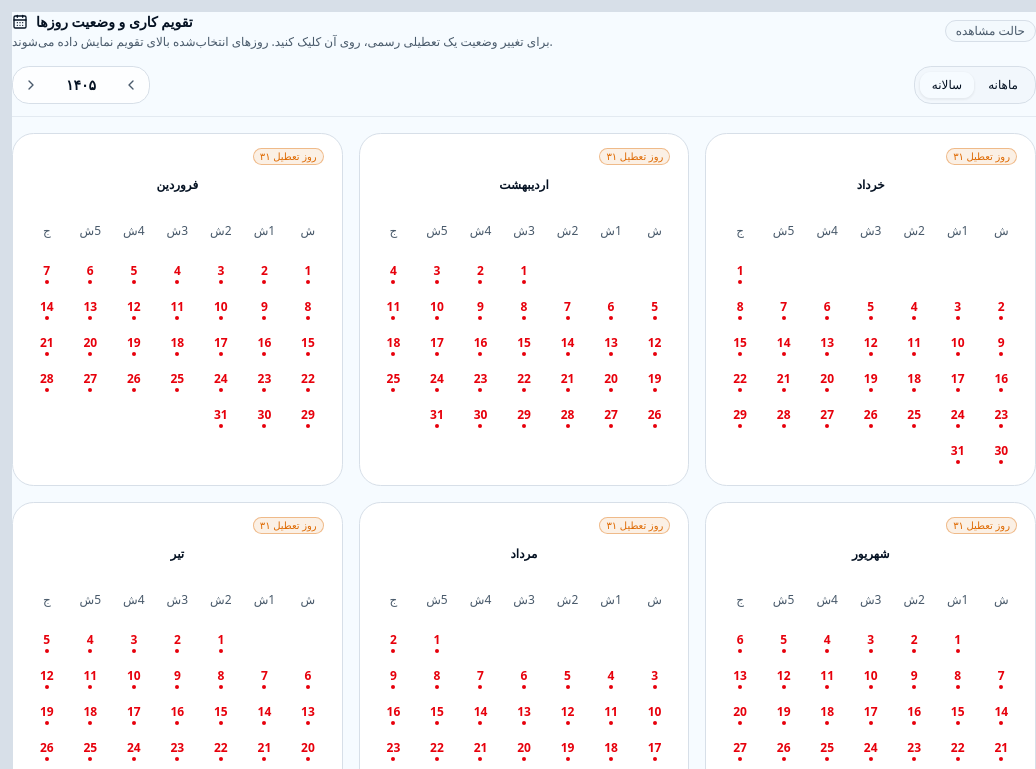
HolidaysCalendar Component › renders the year toolbar and allows year navigation and resetting
Expected: the button "سالانه" is shown, [919, 71, 975, 99]
Expected: the button "ماهانه" is shown, [975, 71, 1031, 99]
Navigate to next year
What coordinates should you click on to do the following:
click the button named "سال بعد"
I would click on:
 (131, 85)
Its box is [117, 71, 145, 99].
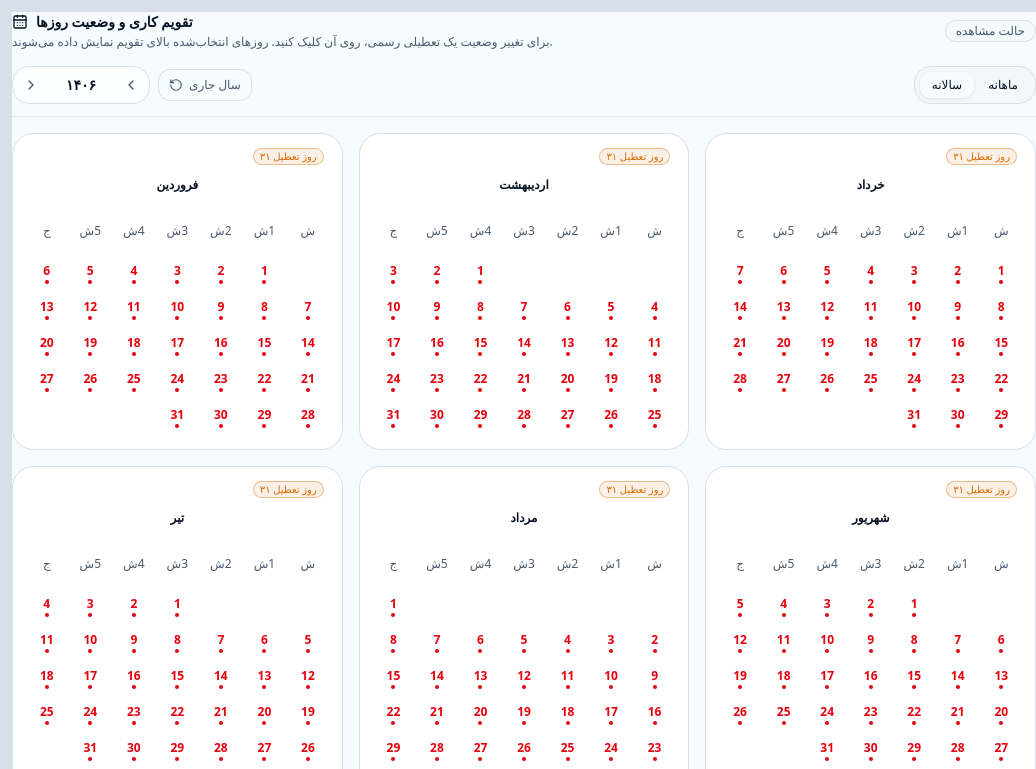
Result: the button "سال جاری" is shown
Reset back to current year
What coordinates should you click on to do the following:
click the button "سال جاری"
I would click on:
 (205, 85)
Its box is [158, 69, 252, 101].
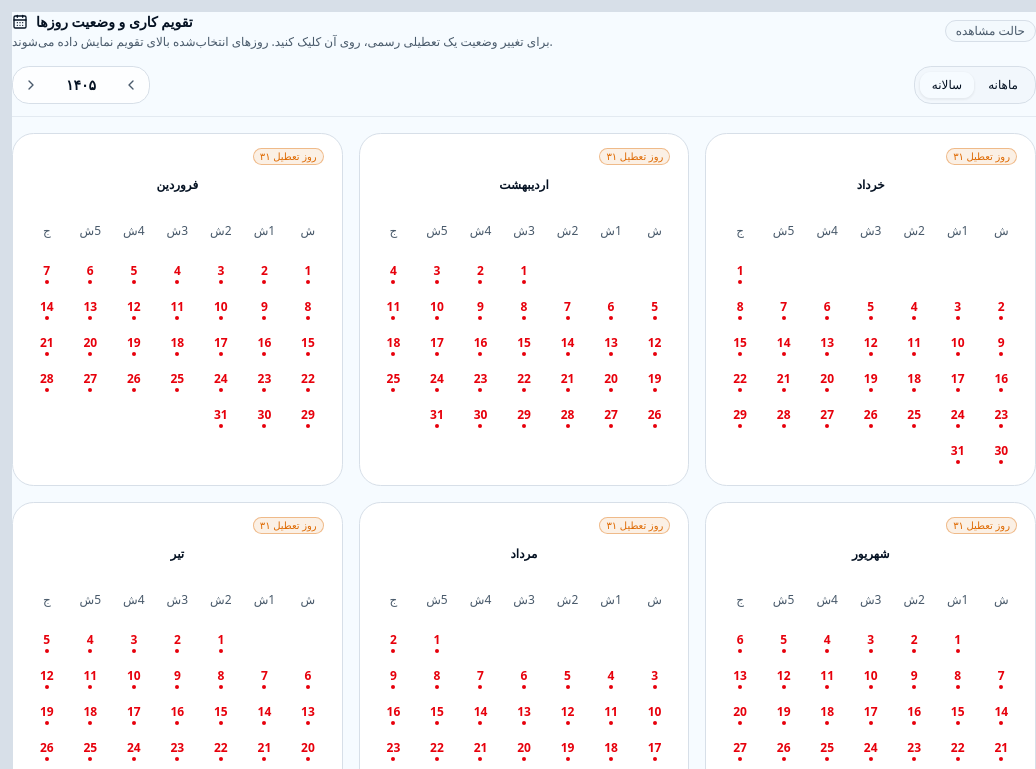
Result: the button "سال جاری" is gone
